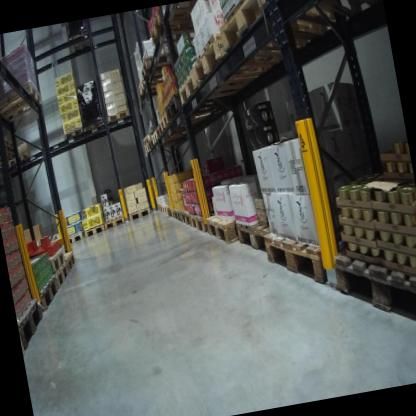pallet: (324, 225, 416, 352), (187, 18, 308, 87), (214, 0, 329, 65), (263, 217, 347, 291), (260, 0, 369, 41), (170, 55, 234, 111), (135, 66, 178, 143), (139, 3, 223, 41), (232, 211, 290, 263), (161, 84, 240, 122), (0, 74, 50, 123), (13, 293, 50, 357), (205, 207, 249, 252), (154, 103, 217, 132), (187, 196, 223, 238), (153, 115, 209, 140), (29, 273, 62, 315), (137, 50, 175, 81), (41, 245, 69, 277), (6, 148, 40, 173), (65, 27, 91, 55), (101, 210, 129, 232), (58, 227, 87, 248), (104, 109, 132, 129), (52, 262, 72, 290), (126, 205, 153, 225), (81, 220, 108, 240), (80, 113, 107, 133), (177, 202, 193, 235), (61, 251, 81, 276), (62, 124, 83, 141), (0, 143, 18, 162), (0, 136, 14, 153), (0, 155, 14, 172), (171, 205, 184, 223), (157, 200, 169, 215), (149, 131, 159, 146), (145, 139, 153, 150), (165, 205, 172, 217), (144, 141, 150, 154)
